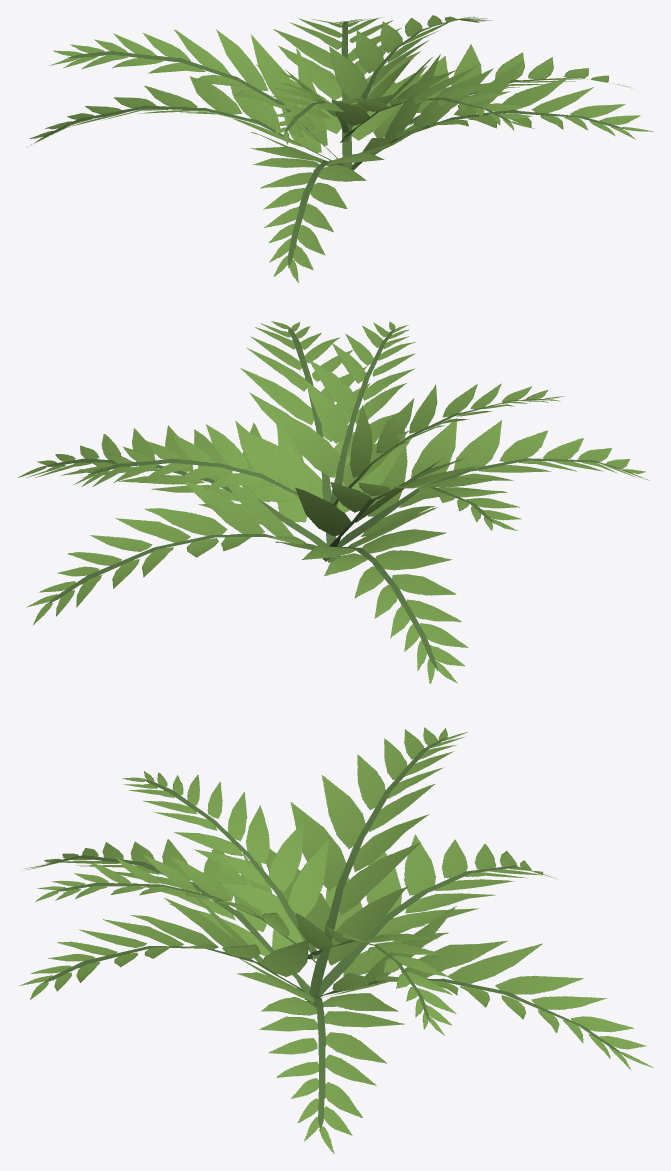
File: Fern_01.fbx
The picture shows the model from 3 angles, top to bottom: view 1: azimuth 30°, elevation 25°; view 2: azimuth 150°, elevation 25°; view 3: azimuth 270°, elevation 25°; orthographic projection. The views are drawn at different scales.
Visible parts, largest first — view 1: Fern_01; view 2: Fern_01; view 3: Fern_01.
Part boxes in pixels (<box>): Fern_01: <box>30,15,653,282</box>; Fern_01: <box>17,321,649,683</box>; Fern_01: <box>19,727,653,1153</box>.
Bounding box in the file's own units: 1082 × 279 × 983.
